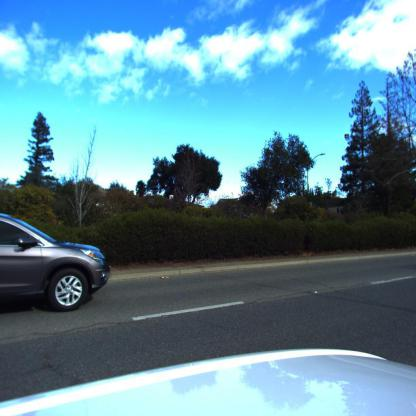car: (0, 210, 112, 315)
